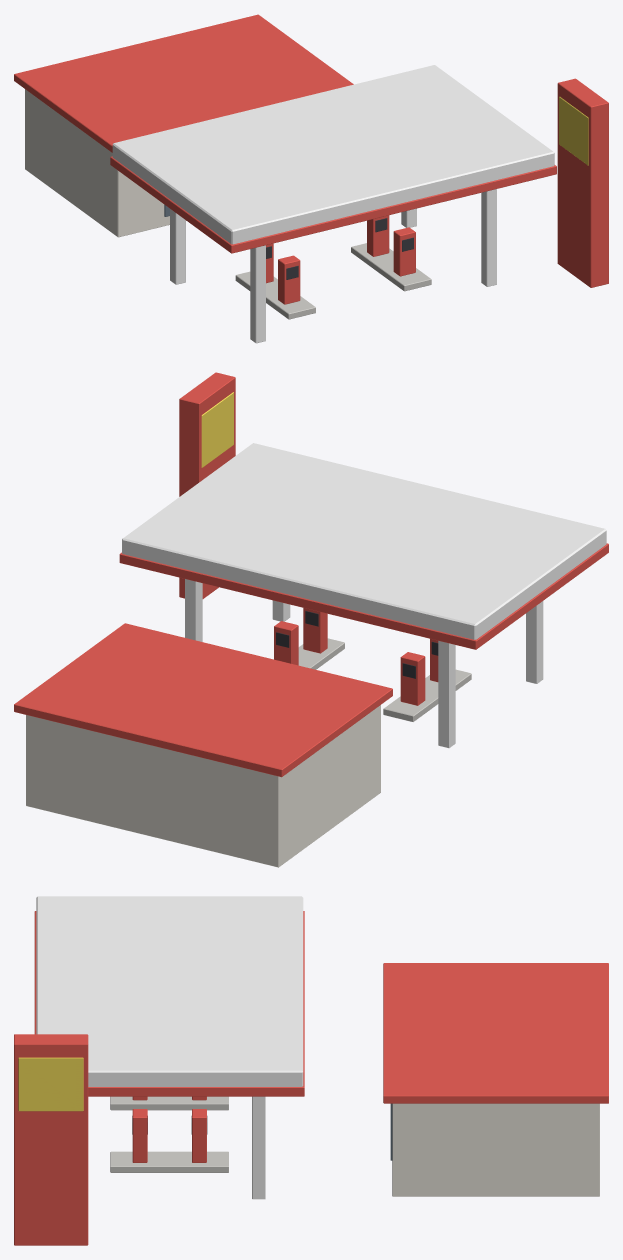
File: gas_station.glb
3 views of the same model, one above another, from view 1: azimuth 30°, elevation 25°; view 2: azimuth 150°, elevation 25°; view 3: azimuth 270°, elevation 25° (orthographic). The views are drawn at different scales.
Parts seen in each view (by area): view 1: gas_station; view 2: gas_station; view 3: gas_station.
Part boxes in pixels (x1=…): gas_station: x1=14, y1=14, x2=608, y2=343; gas_station: x1=14, y1=372, x2=608, y2=867; gas_station: x1=14, y1=896, x2=608, y2=1245.
Size of the model in its own units: 15.98 by 7.51 by 20.05.
